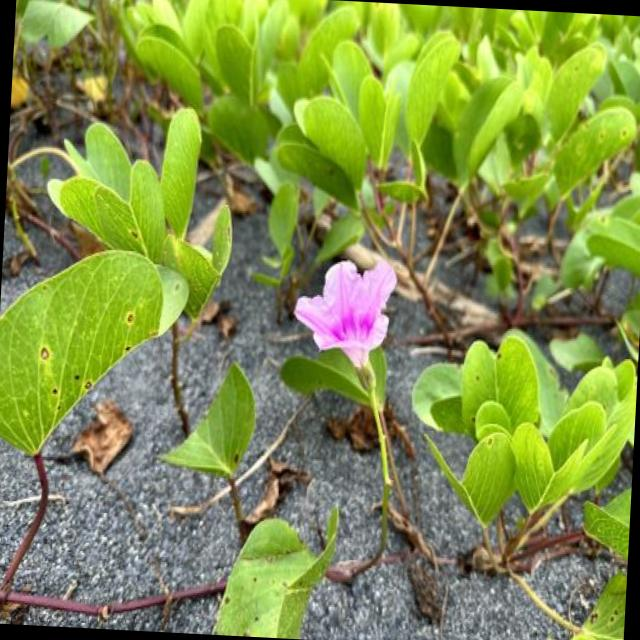ipomoea: (286, 251, 401, 377)
